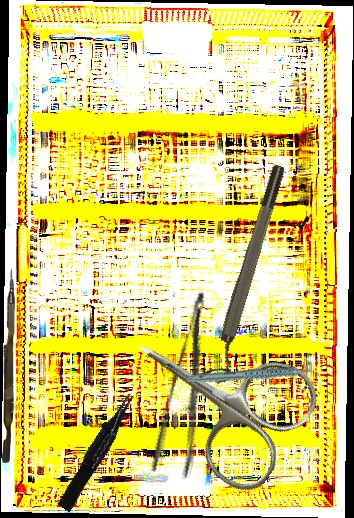Dressing Forceps: (147, 290, 237, 481)
Fixation Ring: (199, 162, 299, 388)
Handpiece: (184, 347, 322, 406)
Iris Scissors: (102, 288, 329, 503)
Pusher: (2, 268, 15, 463)
Tissue Forceps: (52, 391, 144, 513)
